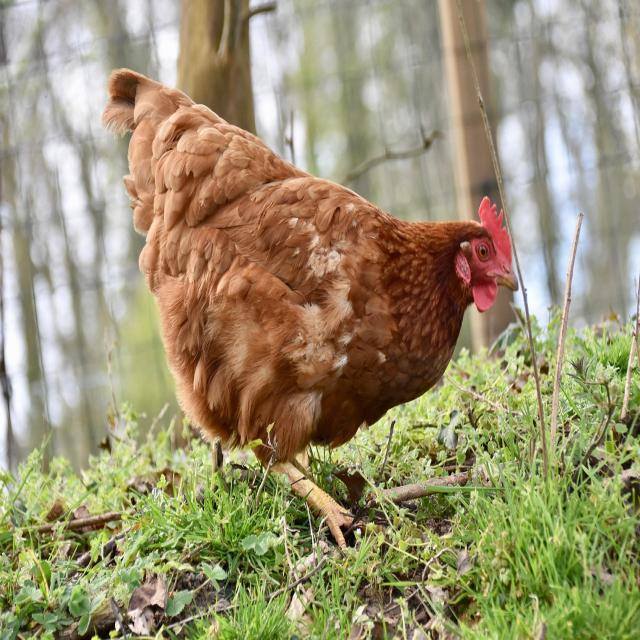Chicken: (96, 69, 546, 562)
